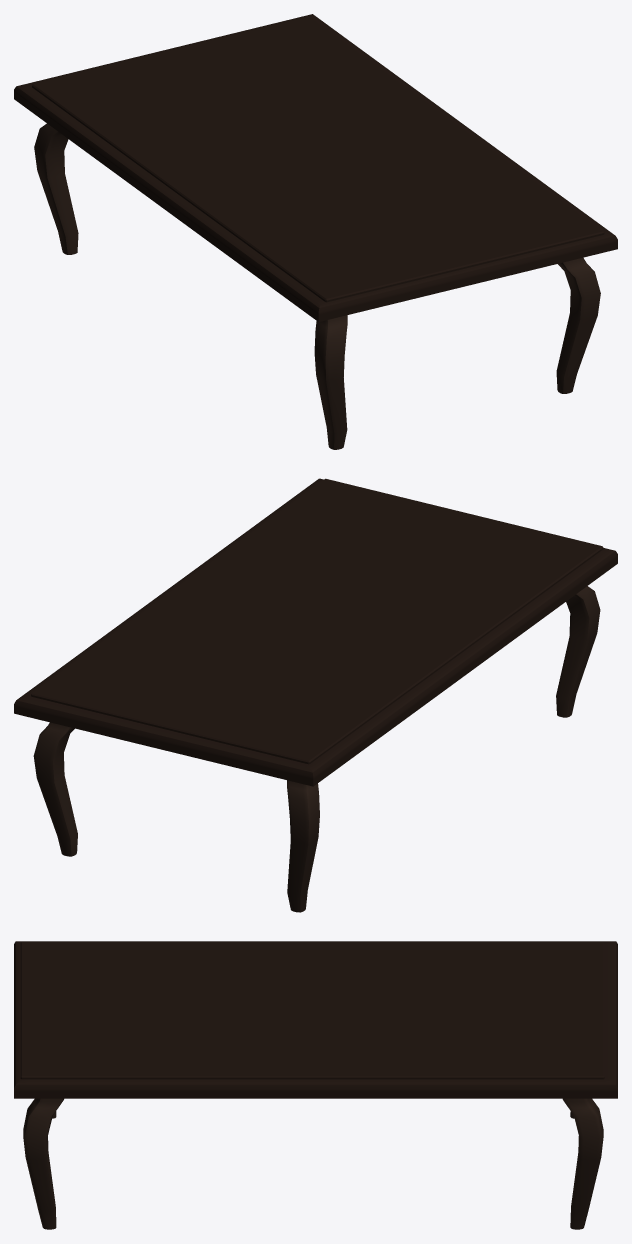
Rendered from CoffeeTable_80s_v1.fbx.
The picture shows the model from 3 angles, top to bottom: view 1: azimuth 30°, elevation 25°; view 2: azimuth 150°, elevation 25°; view 3: azimuth 270°, elevation 25°; orthographic projection.
Parts seen in each view (by area): view 1: U_CoffeeTable_80s; view 2: U_CoffeeTable_80s; view 3: U_CoffeeTable_80s.
Boxes of the visible parts, bbox=[...] form: U_CoffeeTable_80s: bbox=[14, 14, 617, 449]; U_CoffeeTable_80s: bbox=[14, 478, 617, 912]; U_CoffeeTable_80s: bbox=[14, 941, 617, 1229].
Size of the model in its own units: 9.73 by 5.09 by 17.15.
